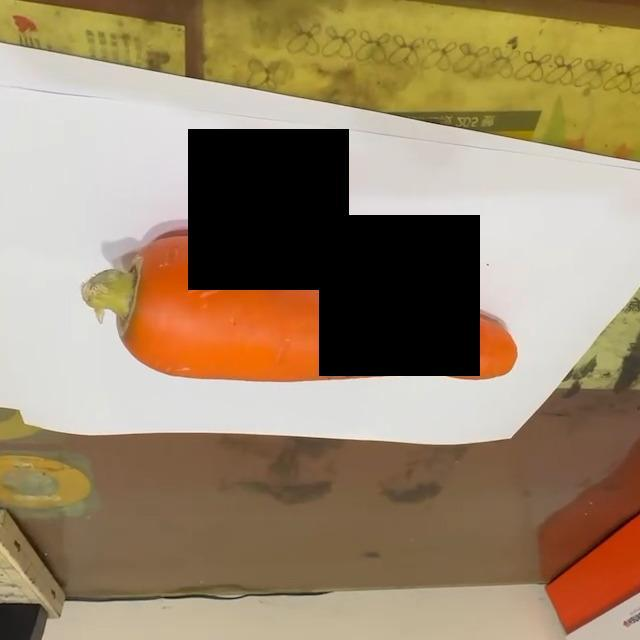carrot: (79, 234, 518, 388)
